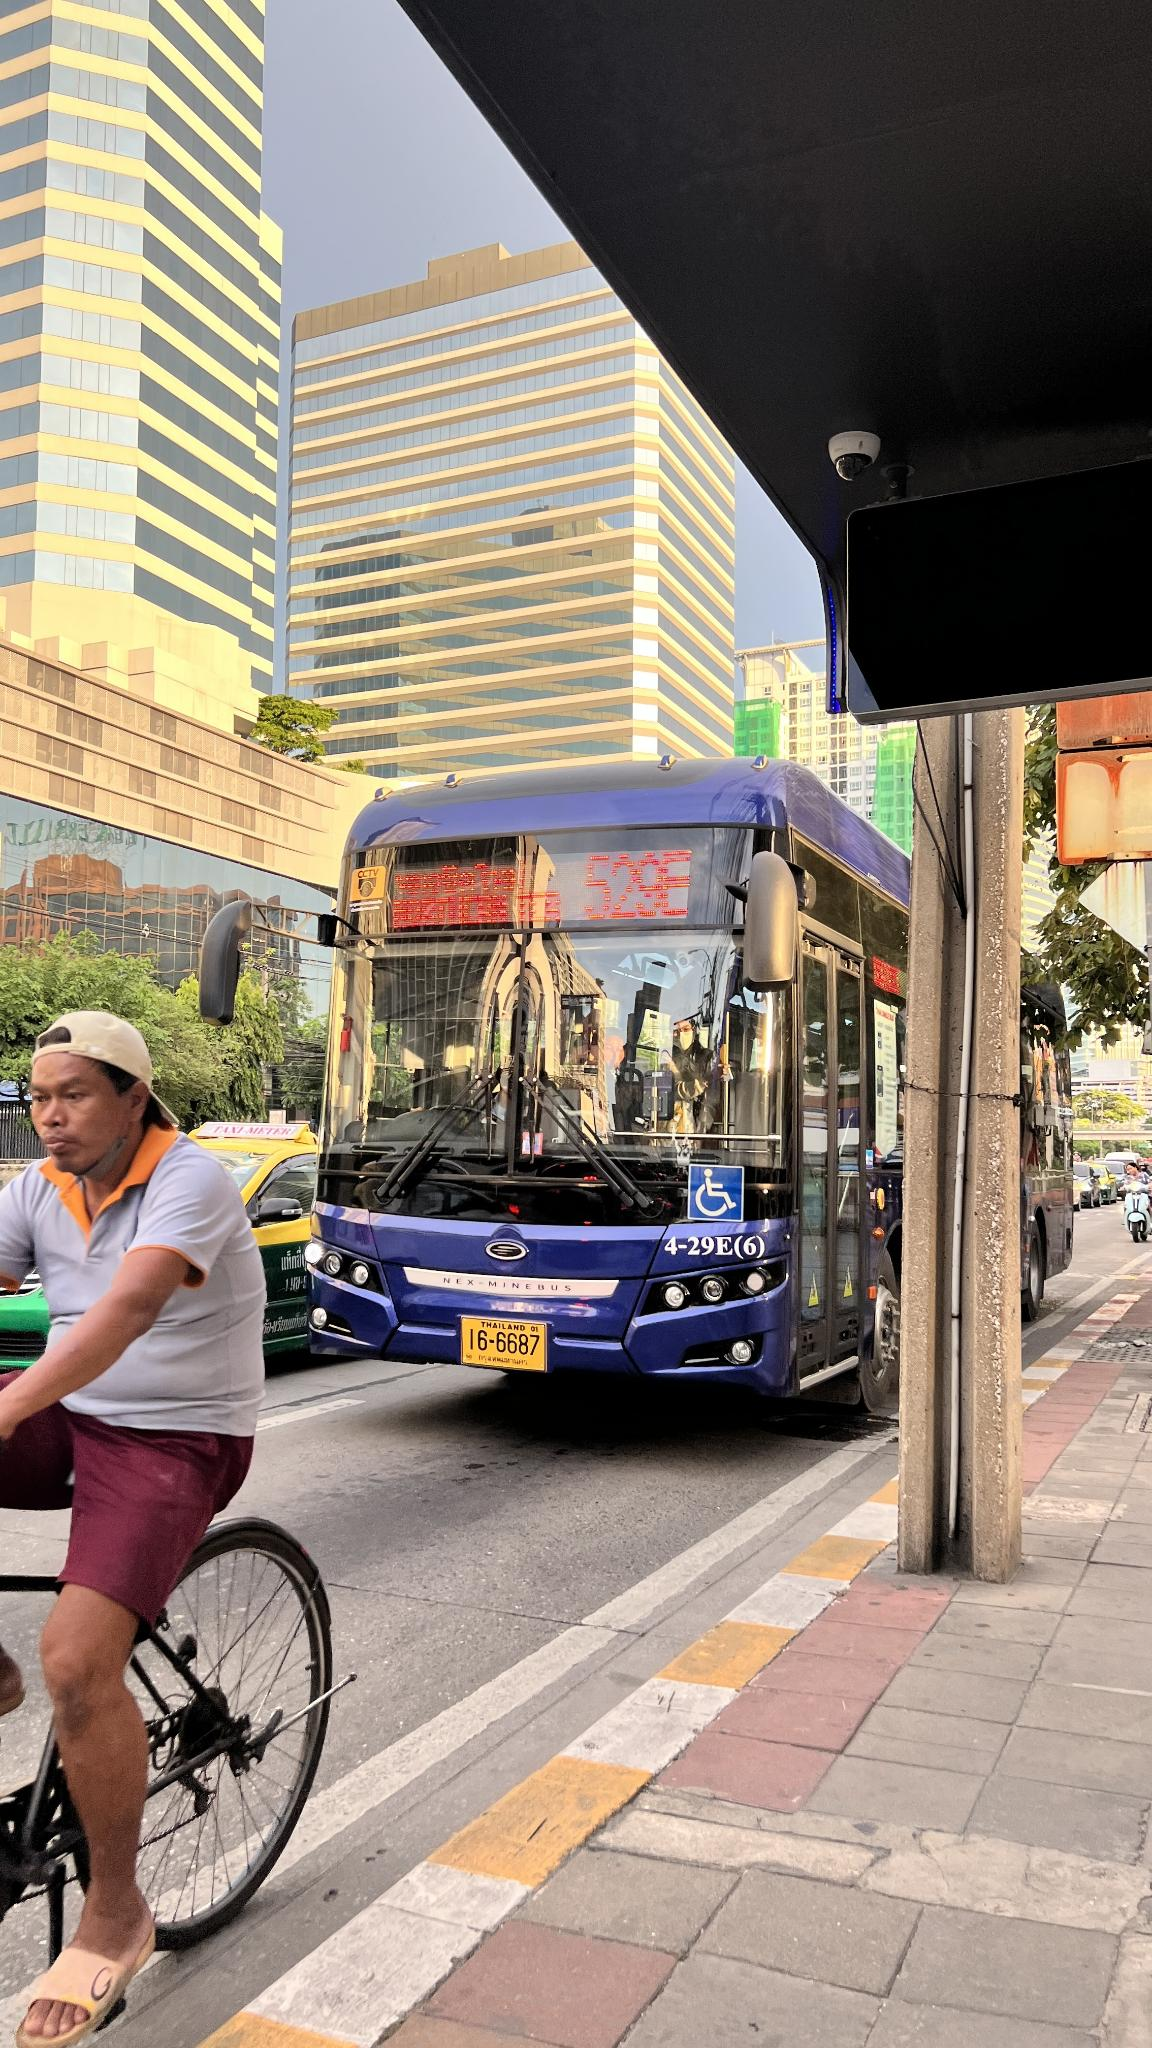Bus Line Number: (575, 843, 695, 930)
Bus Side Number: (661, 1234, 769, 1262)
Destination Sign: (373, 850, 570, 930)
TSB-Bus: (307, 765, 906, 1415)
